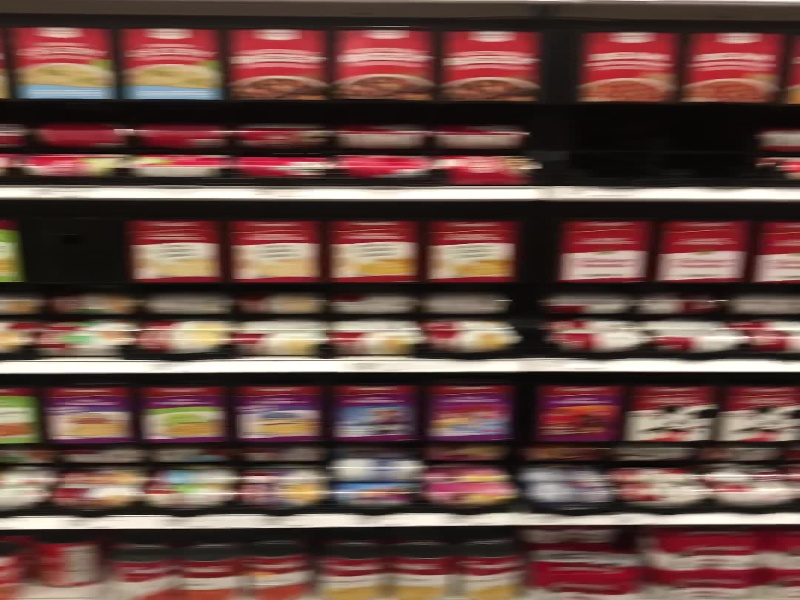empty_shelf_space: (549, 105, 767, 180)
